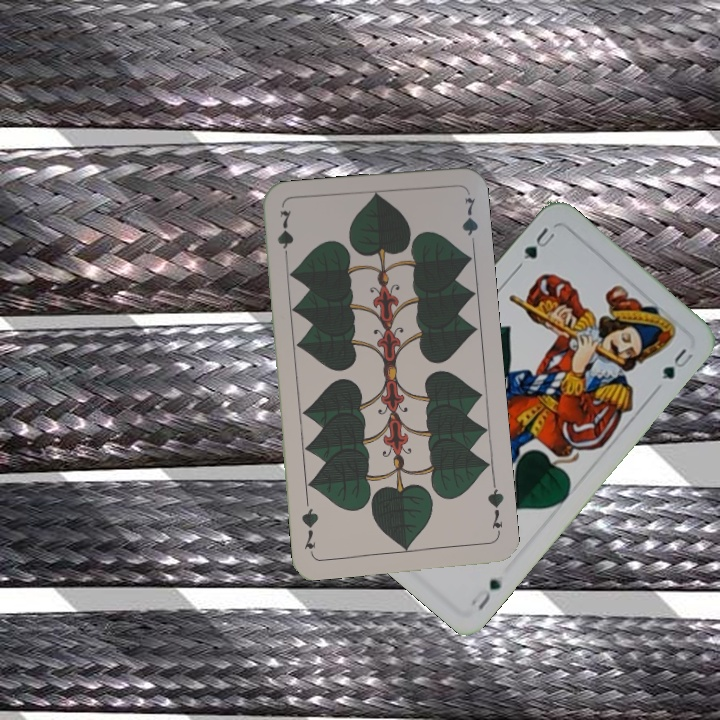G7: (273, 206, 296, 265), (484, 479, 506, 538)
GU: (519, 223, 559, 262), (467, 574, 505, 613)
